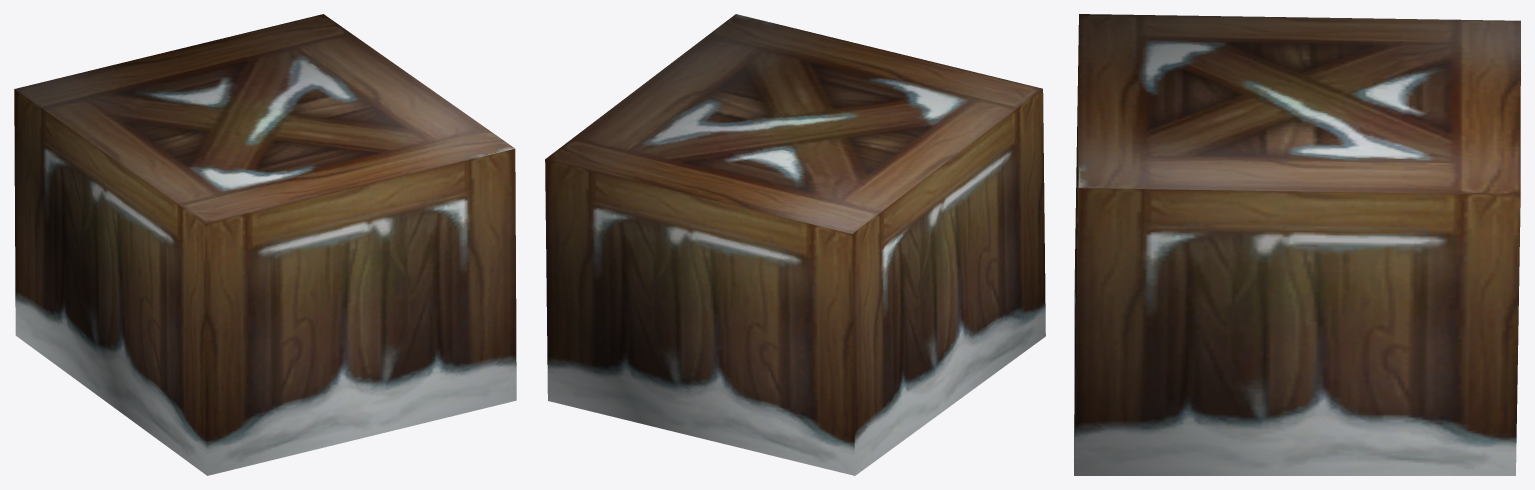
The model's file is environment_common_xuedimuxiang_003_b.FBX.
The picture shows the model from 3 angles, left to right: view 1: azimuth 30°, elevation 25°; view 2: azimuth 150°, elevation 25°; view 3: azimuth 270°, elevation 25°; orthographic projection. The views are drawn at different scales.
Parts seen in each view (by area): view 1: environment_common_xuedimuxiang_003_b; view 2: environment_common_xuedimuxiang_003_b; view 3: environment_common_xuedimuxiang_003_b.
Boxes of the visible parts, x1,y1,x2,y2 form: environment_common_xuedimuxiang_003_b: [14, 14, 516, 475]; environment_common_xuedimuxiang_003_b: [545, 14, 1045, 475]; environment_common_xuedimuxiang_003_b: [1074, 14, 1520, 475].
Size of the model in its own units: 65.17 by 50.34 by 70.64.
